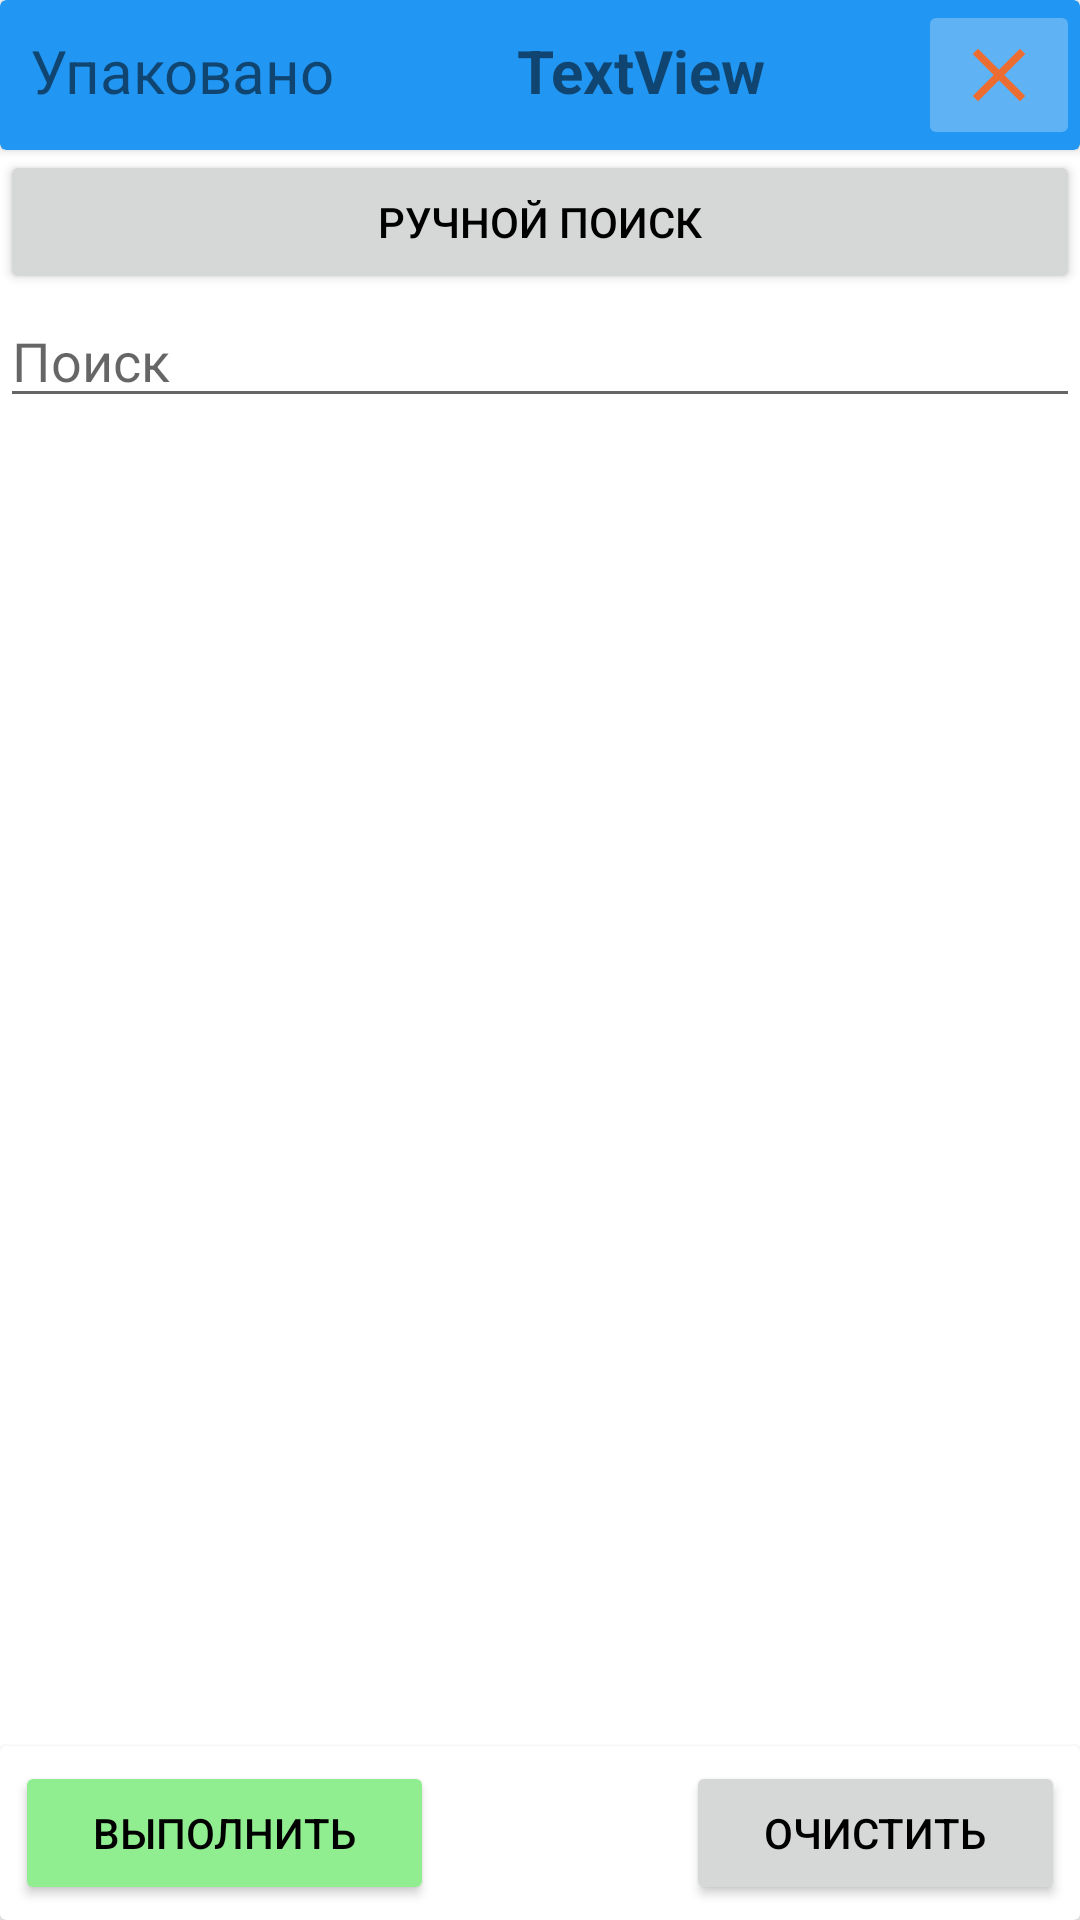

Icons on this 1080x1920 Android screen, each with its box as (x1, y1, x2, y2):
close: (930, 0, 1080, 132)
